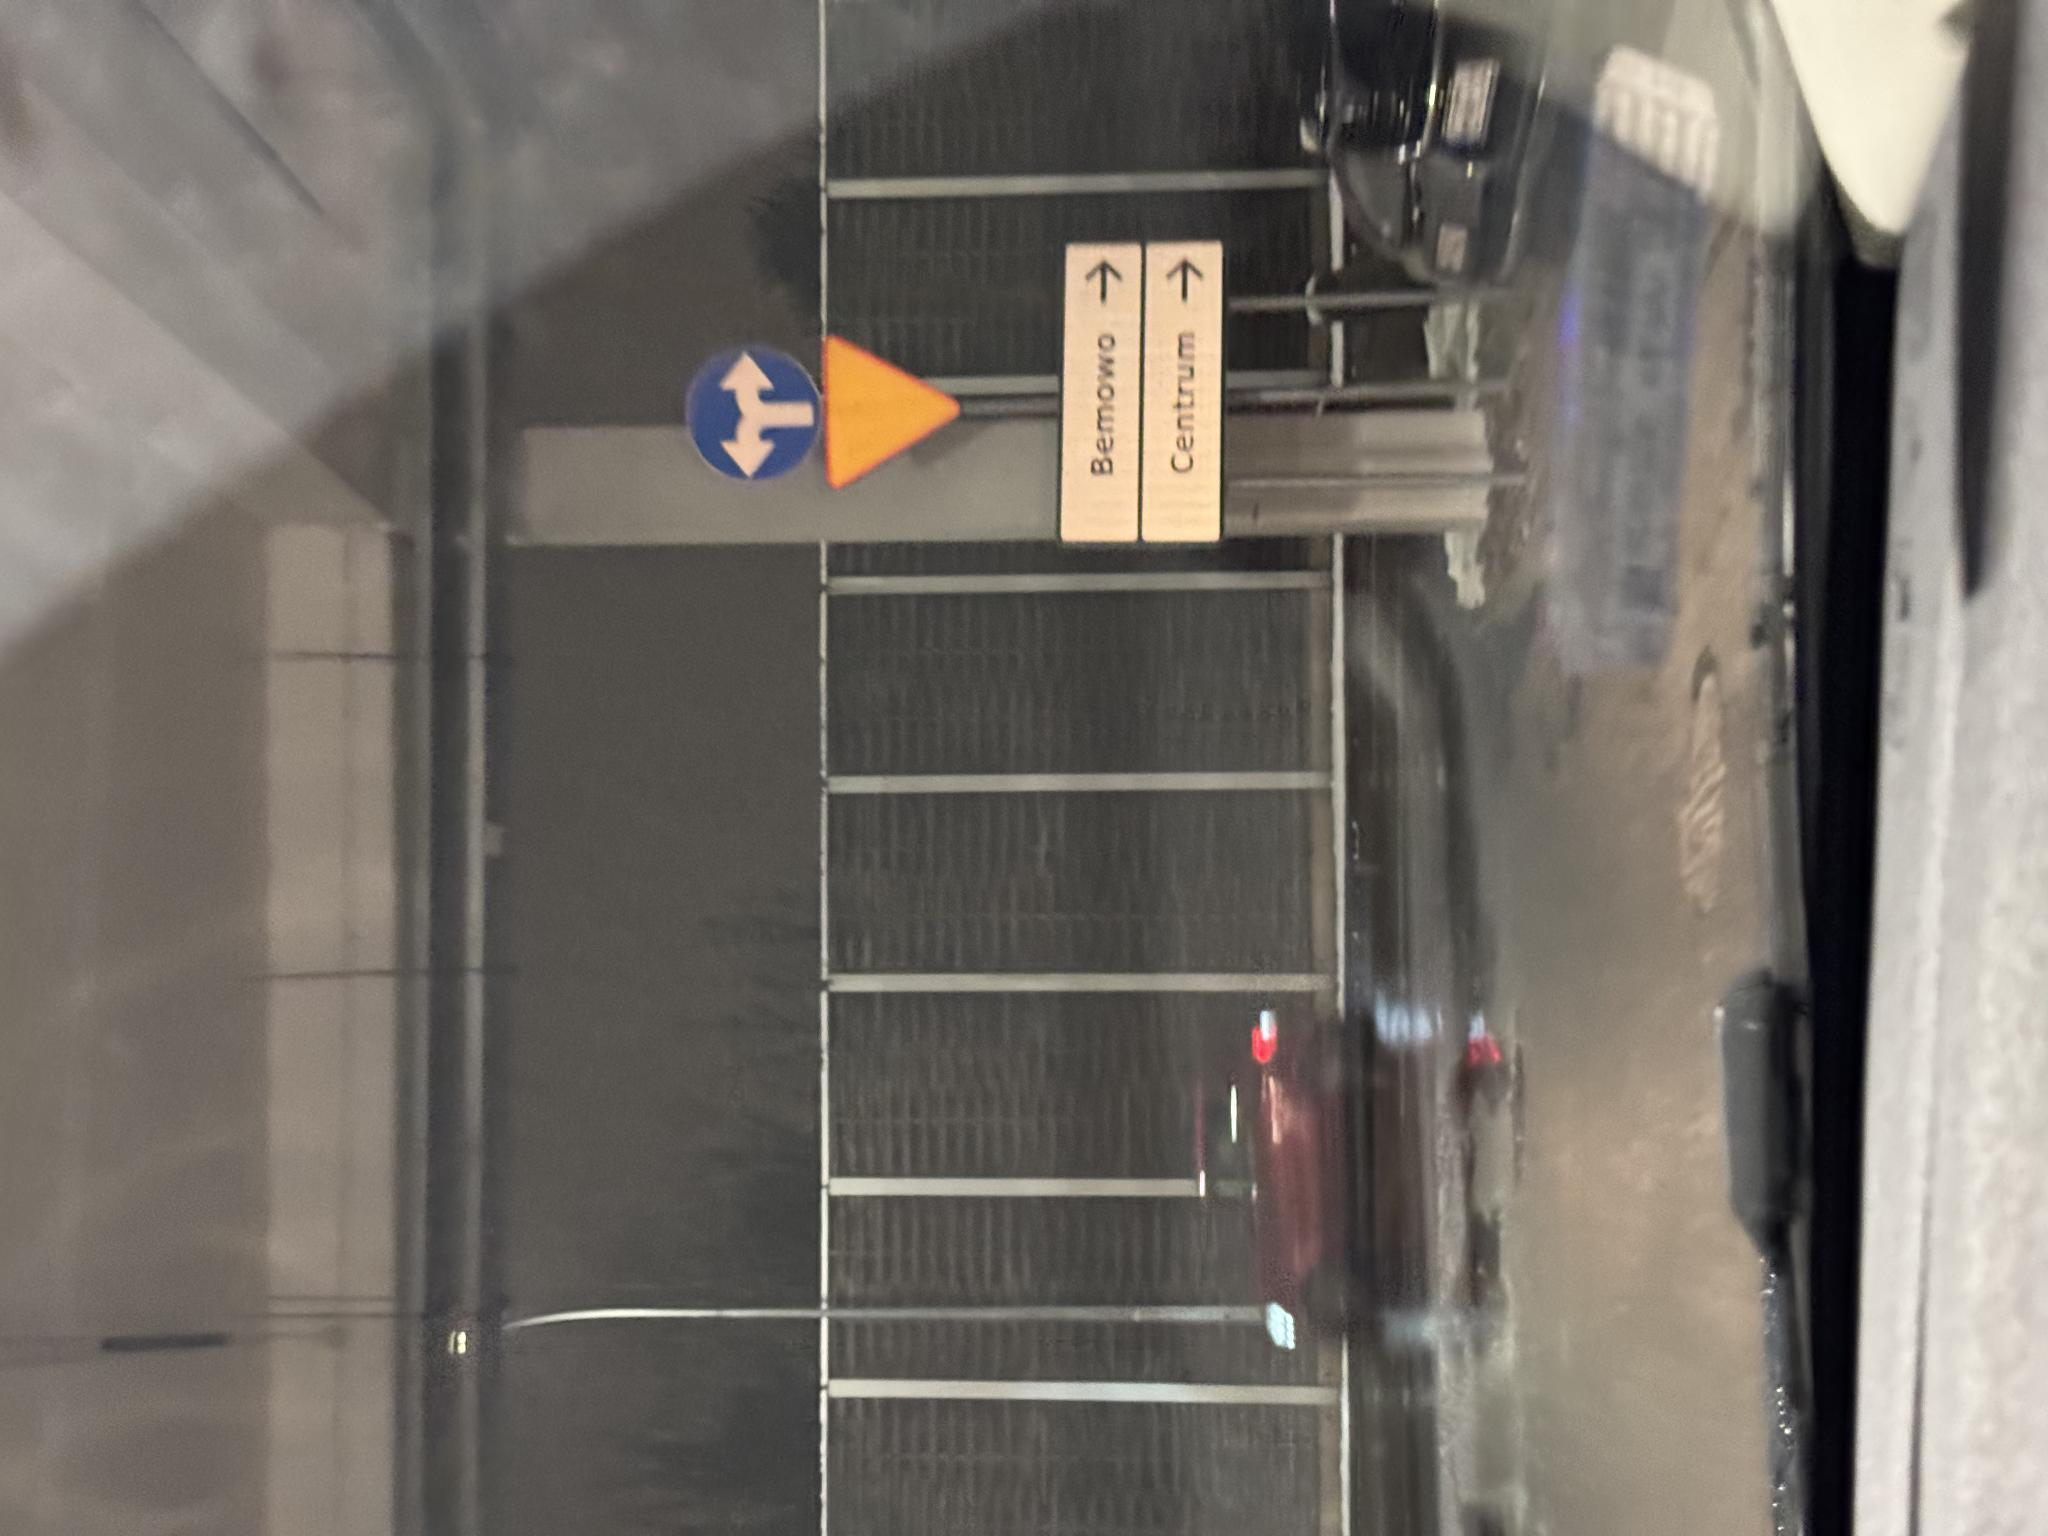mandatory: (1055, 684, 1193, 820)
warning: (1047, 821, 1205, 963)
